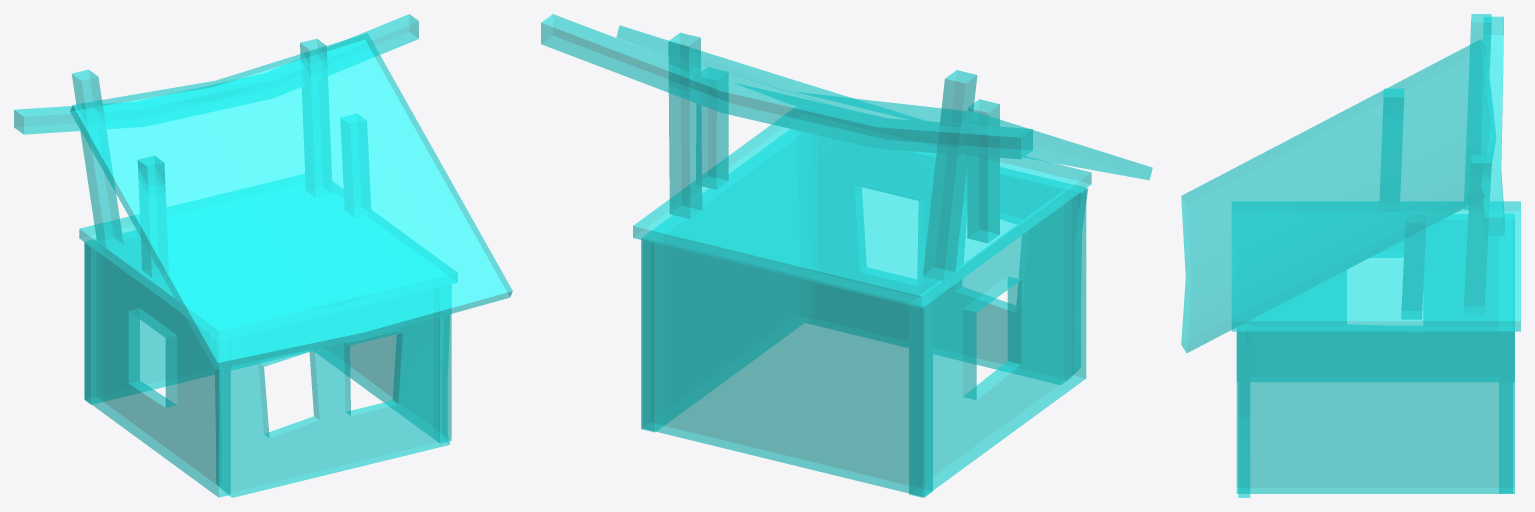
File: SM_Bld_Shack_04_Top_01_Collision.fbx
3 views of the same model, side by side, from view 1: azimuth 30°, elevation 25°; view 2: azimuth 150°, elevation 25°; view 3: azimuth 270°, elevation 25° (orthographic). The views are drawn at different scales.
Parts seen in each view (by area): view 1: SM_Bld_Shack_04_Top_01_Collision; view 2: SM_Bld_Shack_04_Top_01_Collision; view 3: SM_Bld_Shack_04_Top_01_Collision.
Boxes of the visible parts, left/top/right/bottom form: SM_Bld_Shack_04_Top_01_Collision: left=14, top=14, right=512, bottom=497; SM_Bld_Shack_04_Top_01_Collision: left=541, top=14, right=1152, bottom=497; SM_Bld_Shack_04_Top_01_Collision: left=1181, top=14, right=1520, bottom=497.
Bounding box in the file's own units: 568 × 471 × 409.
